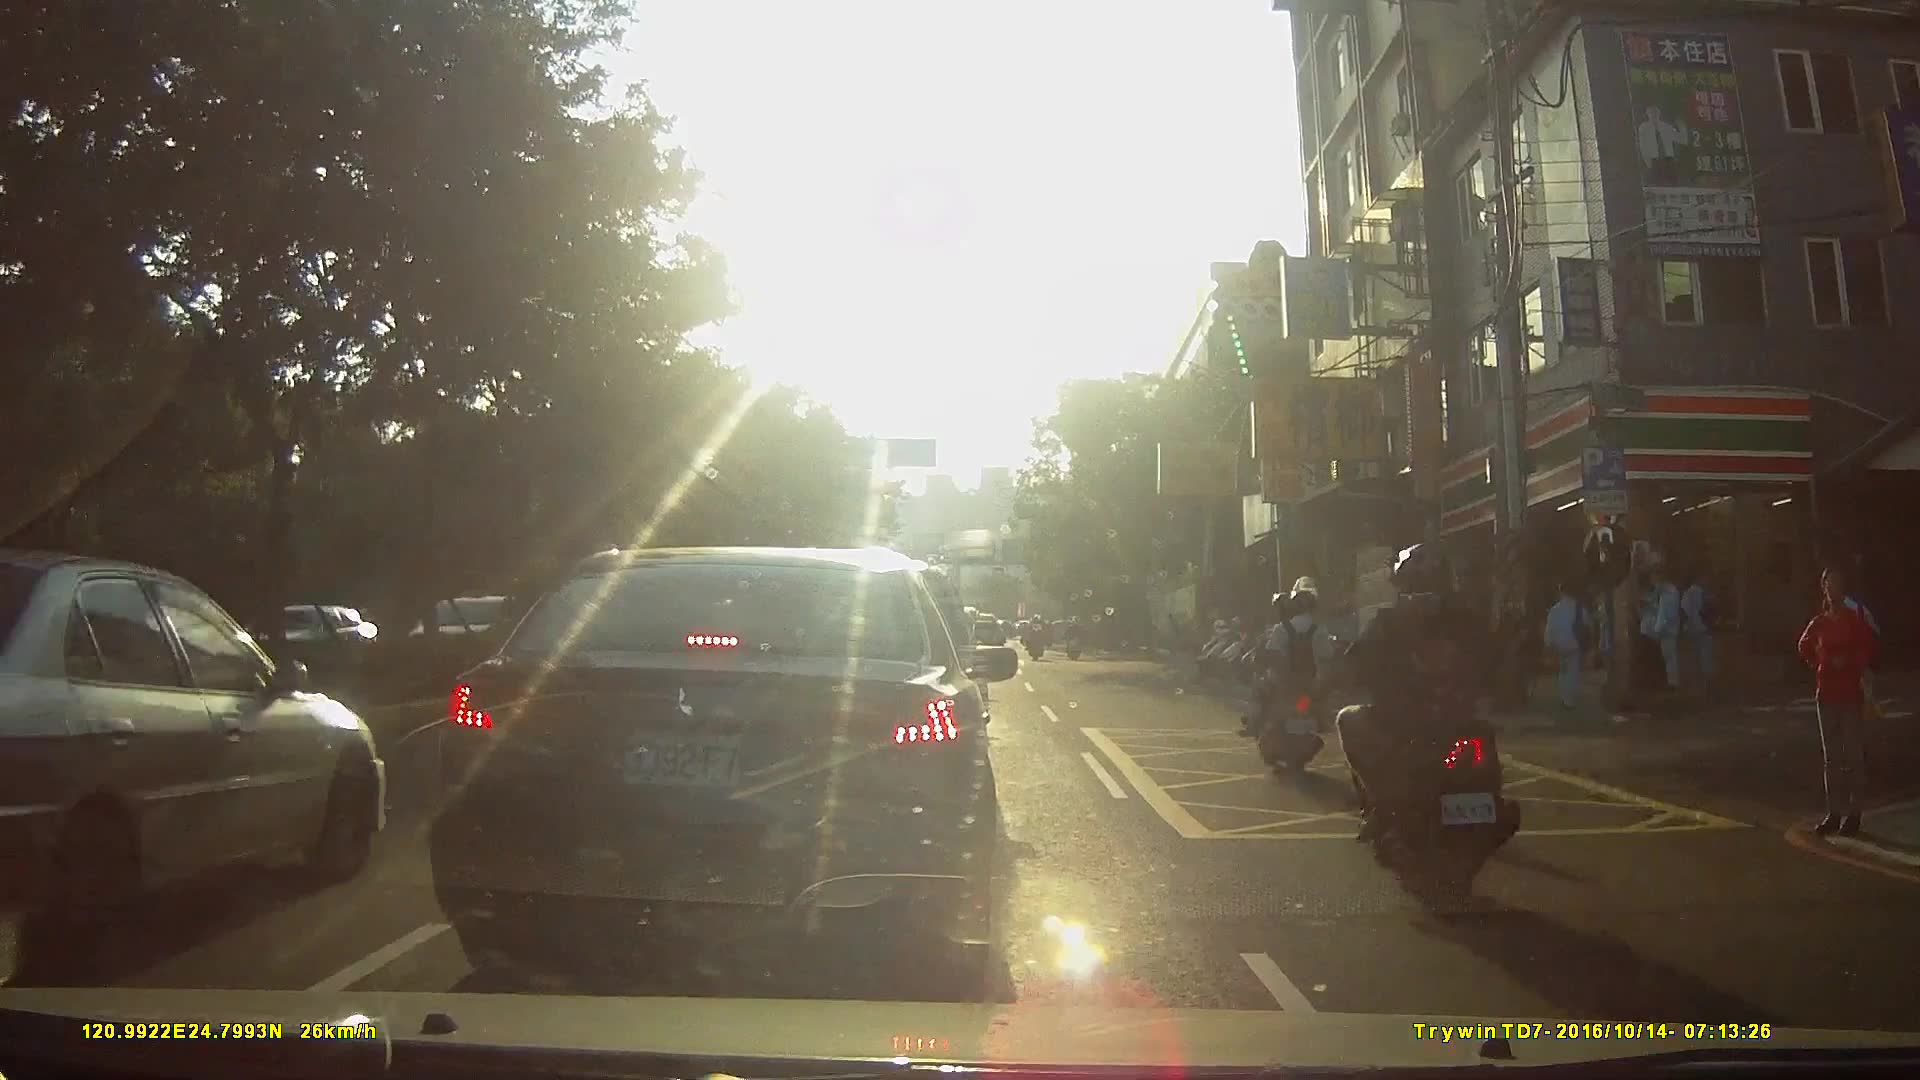pedestrian: (1799, 567, 1881, 841), (1544, 579, 1598, 715), (1640, 567, 1682, 695), (1630, 569, 1668, 701), (1680, 564, 1721, 688), (1597, 577, 1617, 709)
rider: (1337, 542, 1516, 903), (1236, 577, 1339, 775), (1025, 612, 1048, 663), (1064, 615, 1086, 663)
vehicle: (438, 538, 1040, 978), (5, 551, 392, 943)
